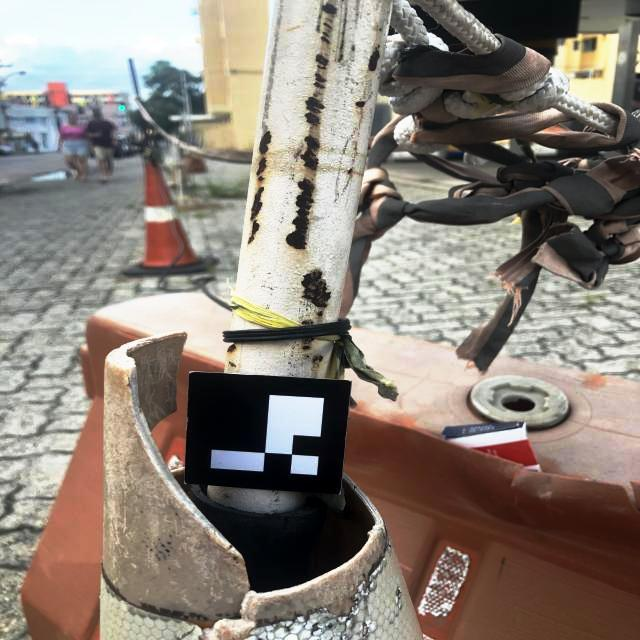Corrosion: (285, 178, 314, 251), (300, 269, 331, 308), (300, 136, 321, 171), (249, 186, 265, 222), (338, 8, 347, 63), (305, 96, 325, 114), (368, 45, 381, 71), (258, 130, 272, 154), (248, 219, 260, 244), (303, 111, 321, 127), (315, 53, 330, 69), (256, 157, 268, 176), (321, 2, 338, 15), (312, 354, 324, 364), (314, 73, 327, 82), (301, 319, 316, 326), (226, 344, 237, 353), (312, 81, 324, 89), (304, 337, 316, 344), (321, 36, 331, 44), (355, 101, 366, 108), (228, 362, 237, 369), (323, 23, 333, 29), (301, 345, 312, 350), (314, 89, 323, 95), (258, 175, 265, 182), (323, 31, 330, 38), (316, 311, 324, 317), (326, 17, 333, 23), (348, 168, 354, 174), (317, 19, 320, 30), (351, 45, 355, 51), (312, 94, 318, 97), (306, 354, 310, 358), (326, 30, 331, 32), (378, 29, 382, 31)
